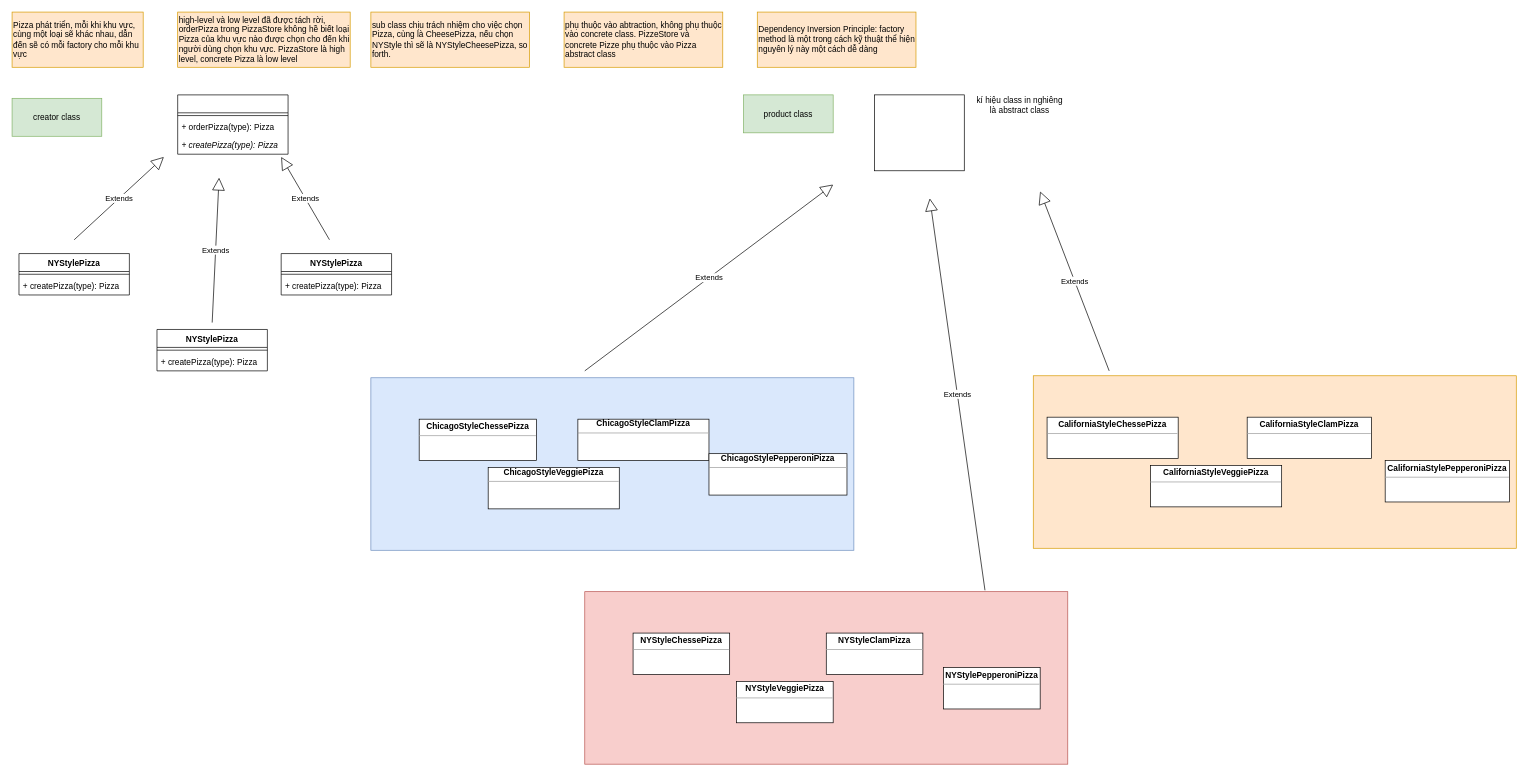
Some shapes in this 1528 by 776 pixel diagram are drawn without their labels. Here are the shapes that lost their labels. From the top down, the box of each, then its label:
(177, 94, 288, 154): PizzaStore
(874, 94, 964, 171): Pizza + prepare(): void + brake(): void + cut(): void + box(): void
